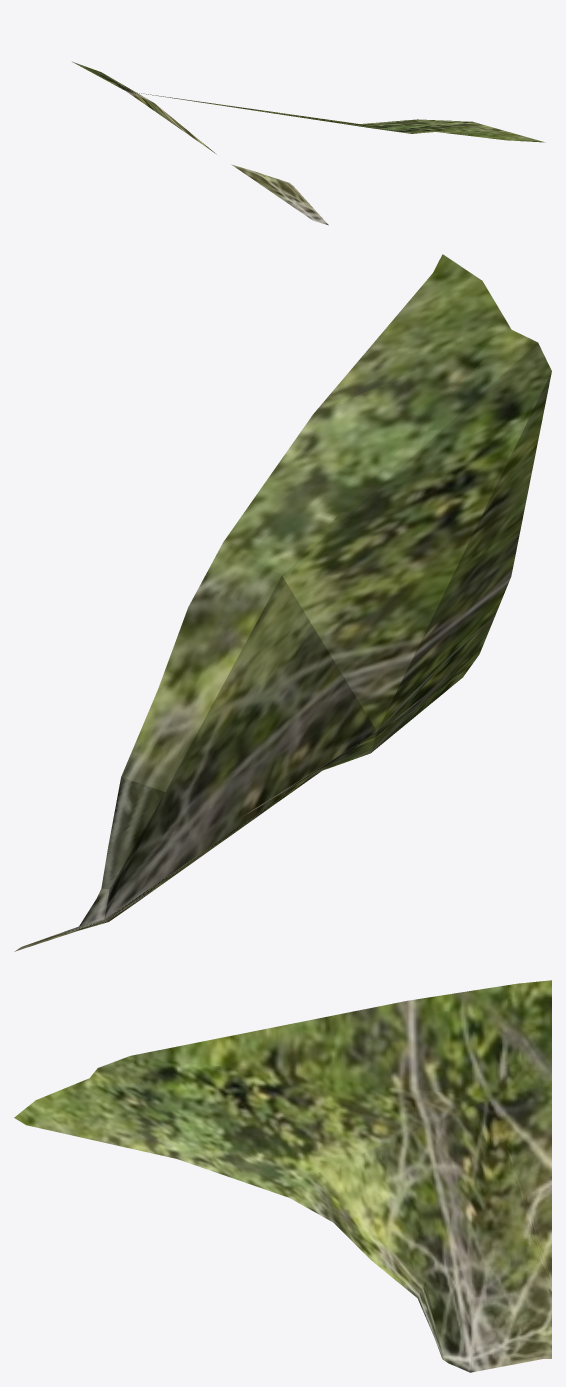
The picture shows the model from 3 angles, top to bottom: view 1: azimuth 30°, elevation 25°; view 2: azimuth 150°, elevation 25°; view 3: azimuth 270°, elevation 25°; orthographic projection. The views are drawn at different scales.
Bounding box in the file's own units: 1.64 × 1.42 × 2.71.
Materials: 1 (1 with a texture image).
